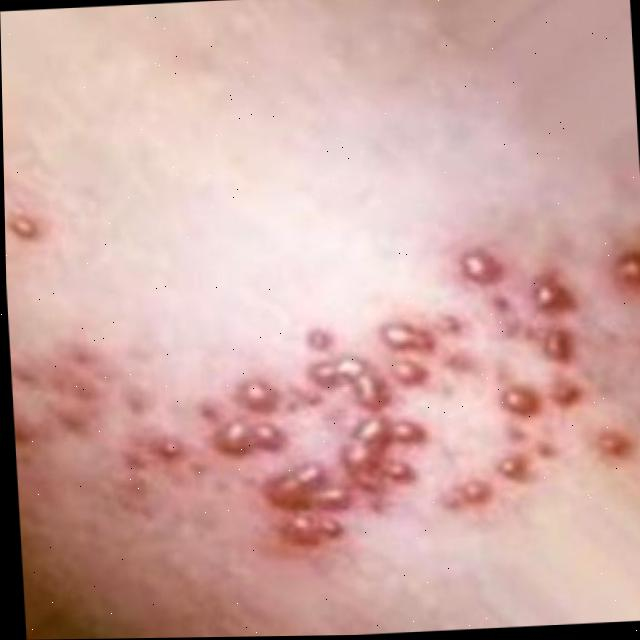Shingles: (6, 247, 640, 570), (12, 210, 32, 243)
